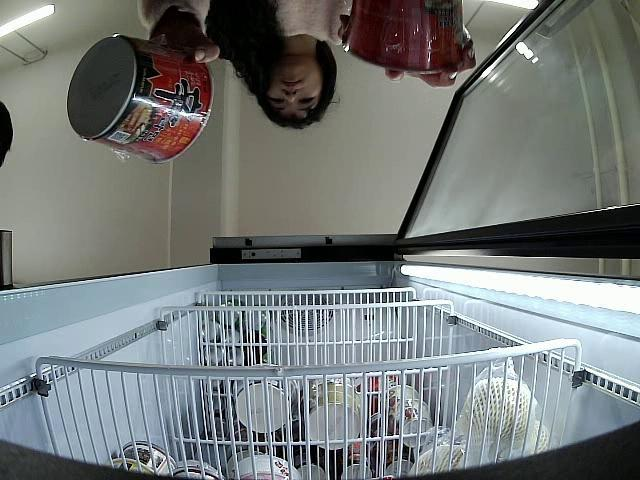01_ShinRamen_L: (64, 33, 213, 163), (347, 0, 466, 71)
